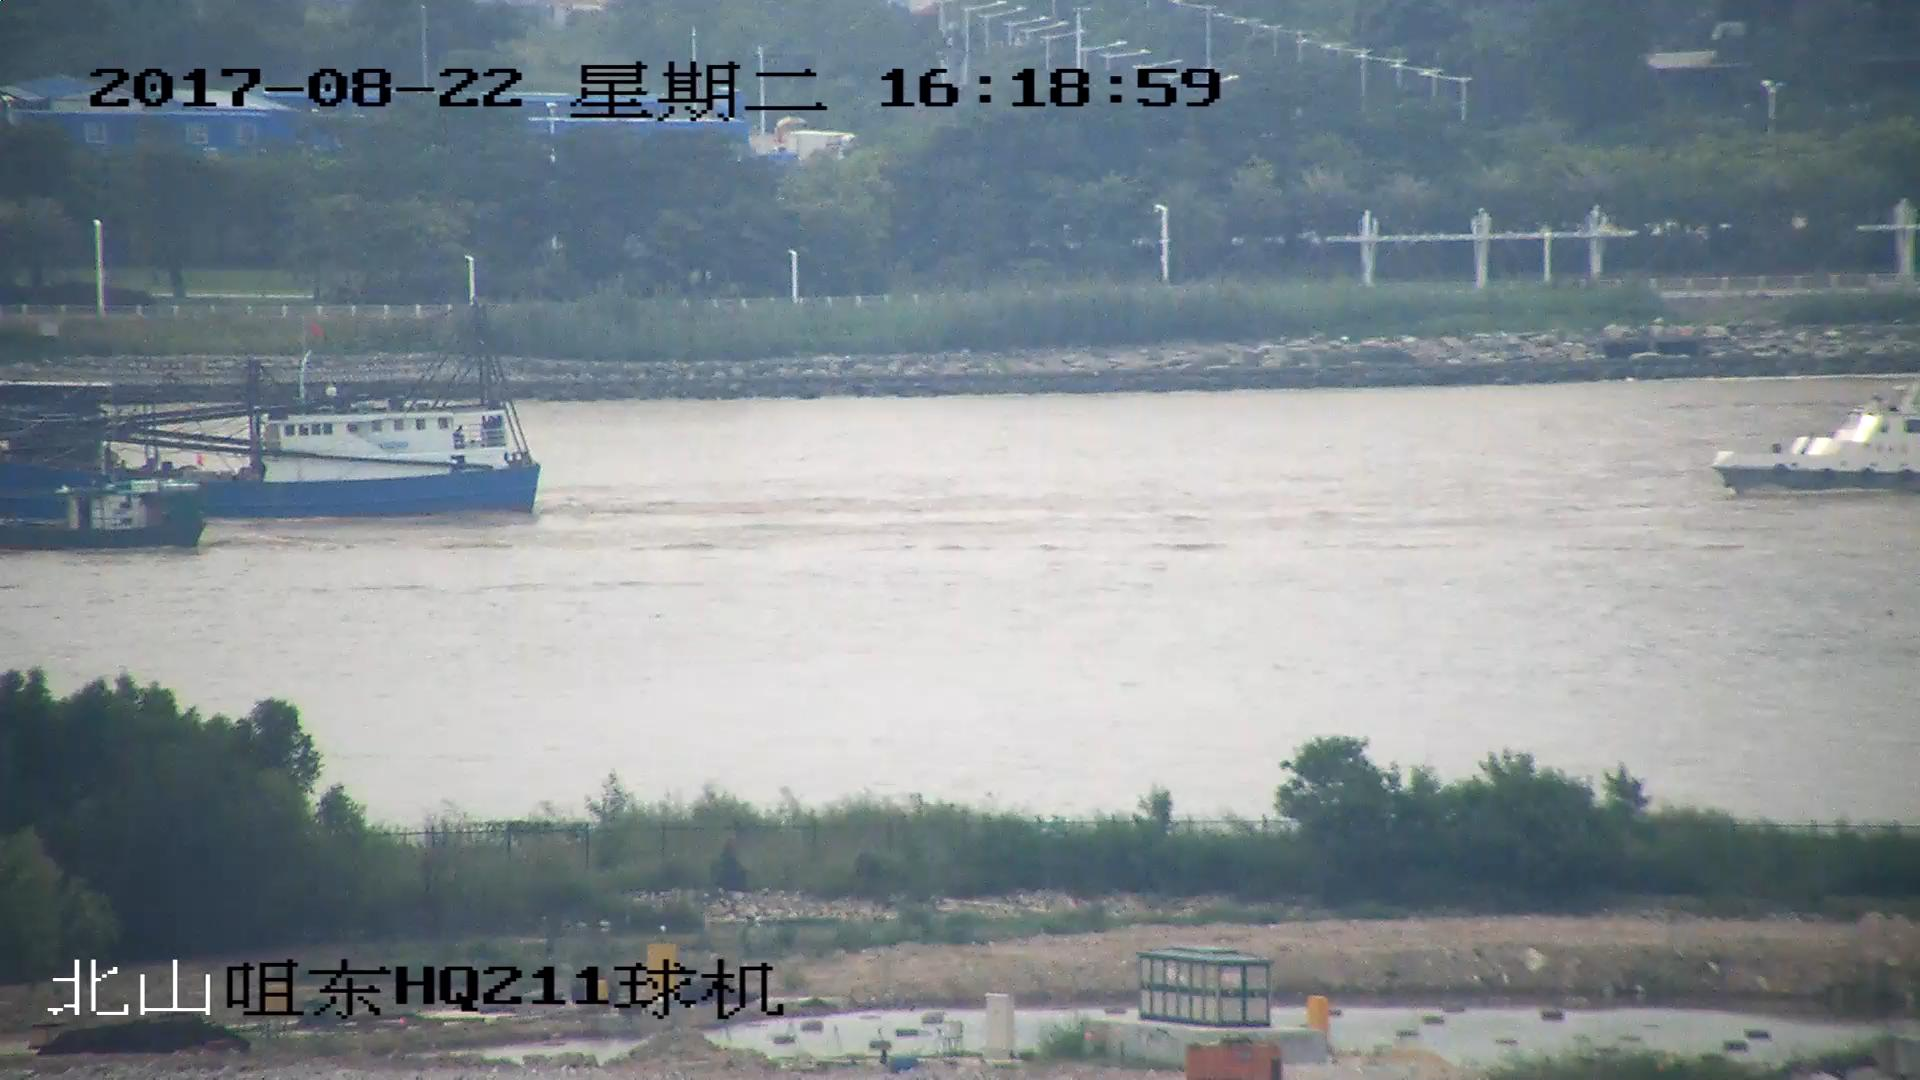fishing boat: (1, 302, 546, 522), (1, 472, 210, 552)
passenger ship: (1718, 391, 1920, 487)
